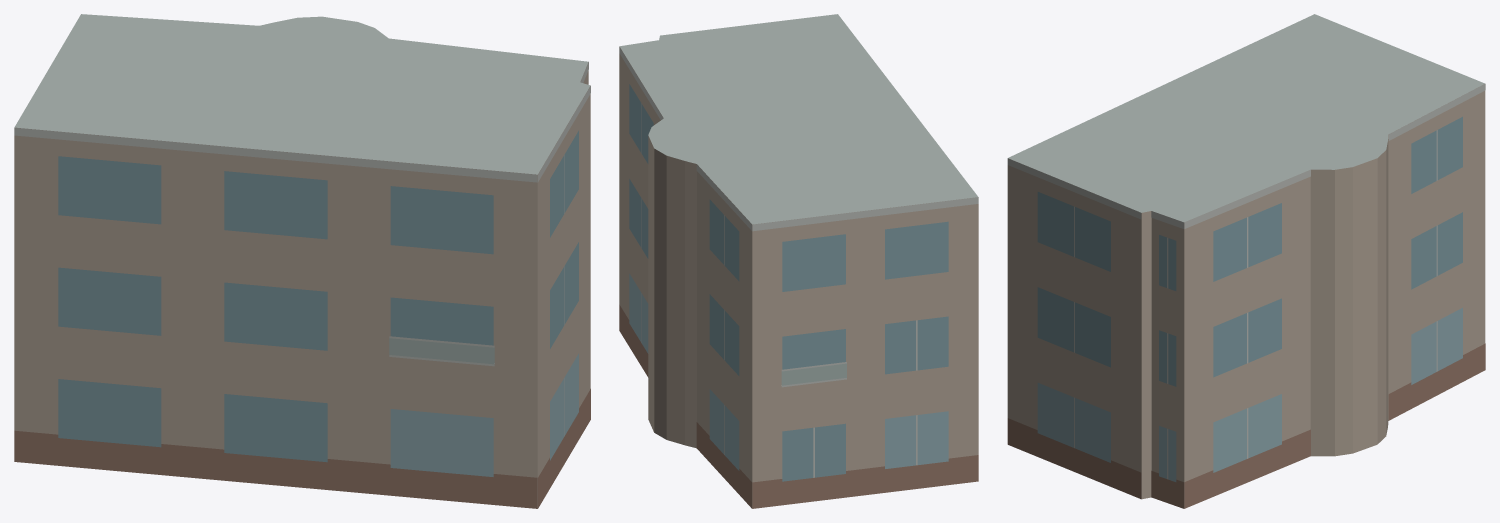
Rendered from survey-upis-32840068.glb.
The picture shows the model from 3 angles, left to right: view 1: azimuth 30°, elevation 25°; view 2: azimuth 150°, elevation 25°; view 3: azimuth 270°, elevation 25°; orthographic projection. The views are drawn at different scales.
Parts seen in each view (by area): view 1: survey-upis-32840068.tmp; view 2: survey-upis-32840068.tmp; view 3: survey-upis-32840068.tmp.
Part boxes in pixels (<box>): survey-upis-32840068.tmp: <box>14,14,590,508</box>; survey-upis-32840068.tmp: <box>619,14,978,508</box>; survey-upis-32840068.tmp: <box>1007,14,1485,508</box>.
Size of the model in its own units: 15.92 by 10.2 by 15.42.
